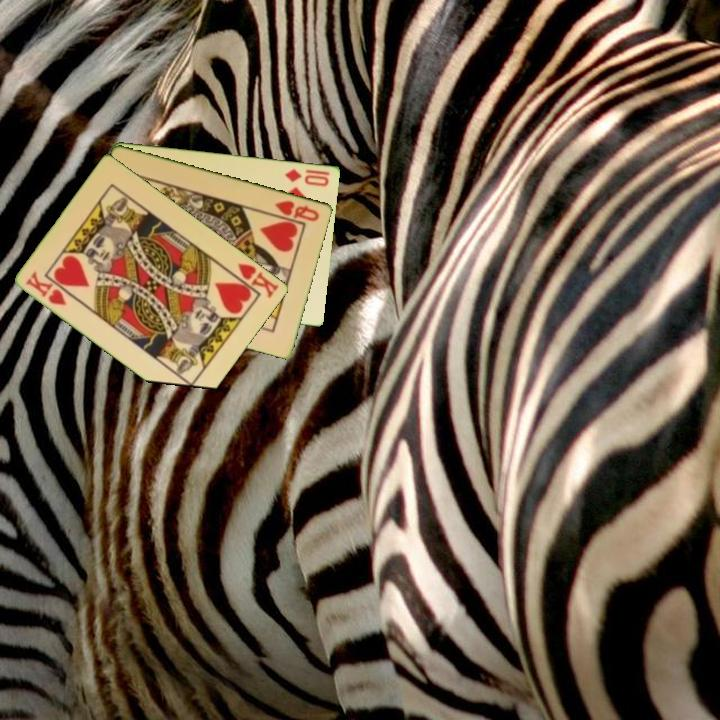10d: (282, 165, 332, 189)
Kh: (226, 259, 282, 301), (23, 268, 70, 309)
Qh: (272, 197, 322, 224)
